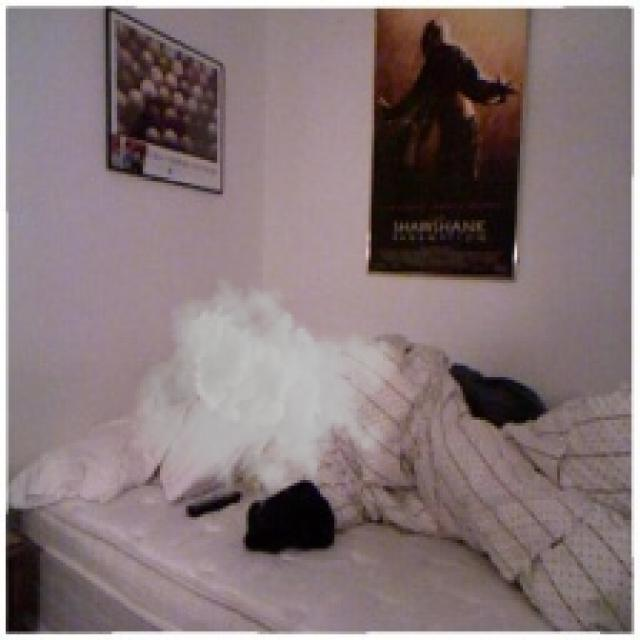Smoke: (134, 277, 397, 520)
